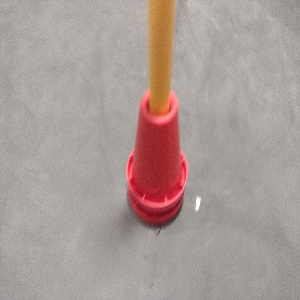Red_2: (116, 87, 190, 231)
